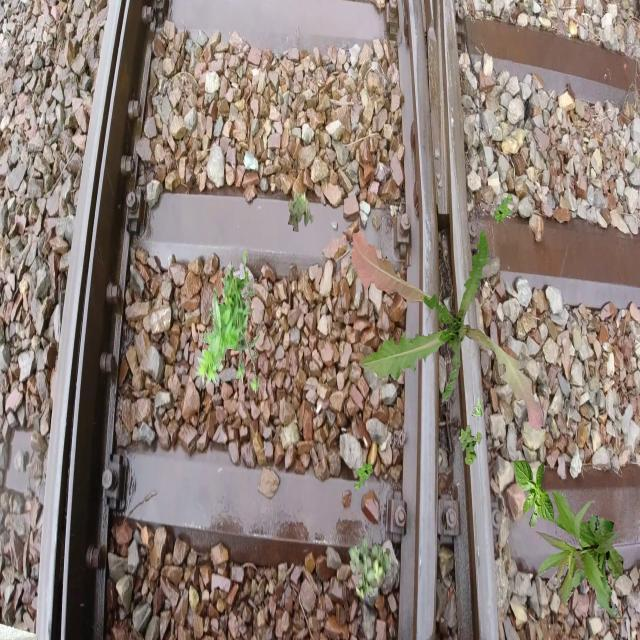Plant: (350, 229, 542, 432), (535, 490, 624, 620), (195, 251, 260, 394), (348, 535, 392, 602), (513, 458, 554, 529), (288, 190, 314, 232), (459, 425, 483, 466), (494, 193, 514, 226), (354, 459, 374, 492), (471, 397, 485, 418)
